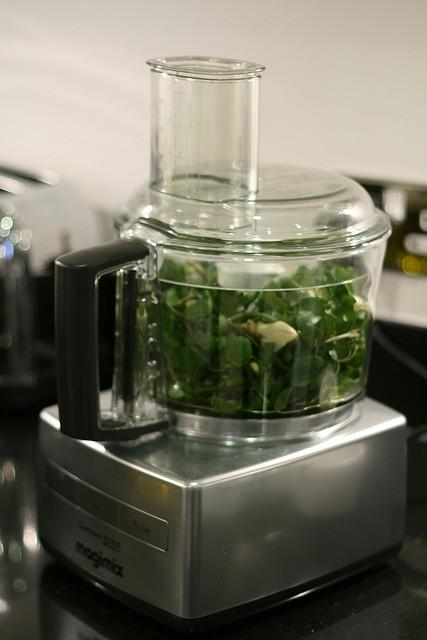garlic: (256, 321, 298, 354), (351, 294, 365, 312), (357, 302, 370, 320)
